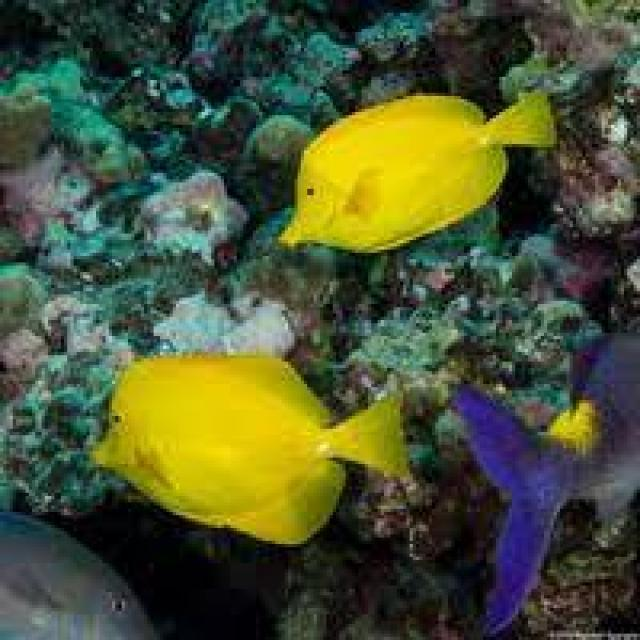YellowTang: (75, 319, 434, 584), (250, 65, 590, 306)
